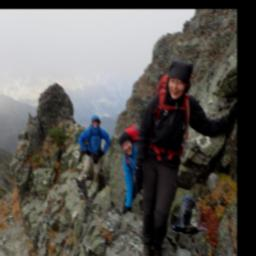Crow: (74, 173, 91, 201)
Woodpecker: (172, 196, 208, 235)
